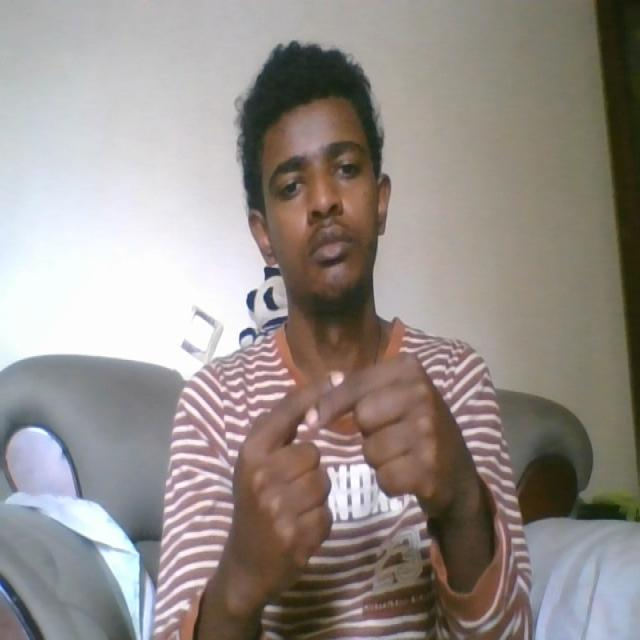eske: (229, 362, 447, 562)
